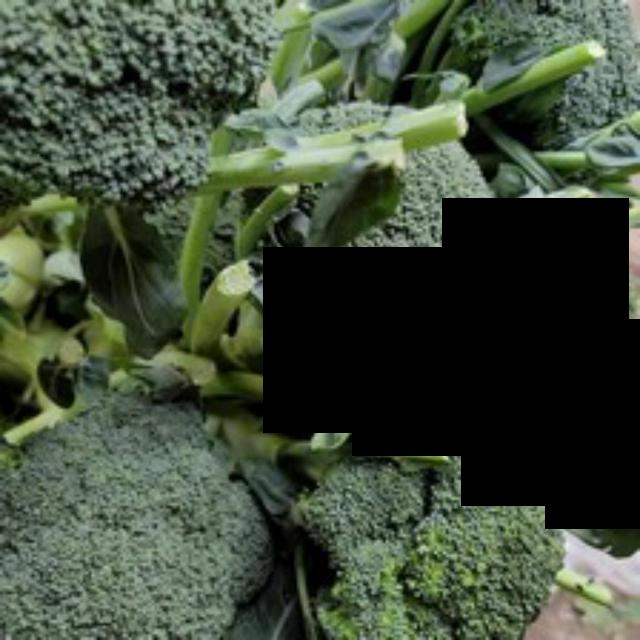broccoli: (9, 377, 282, 637)
